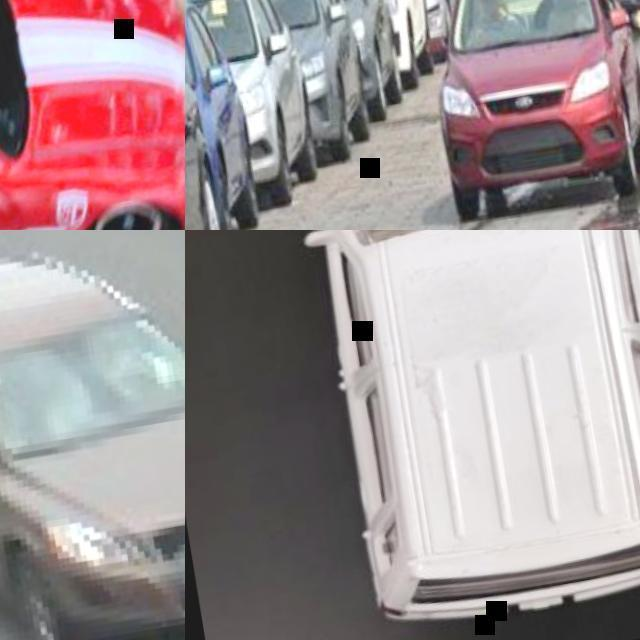car: (434, 0, 639, 216), (183, 0, 312, 206)
